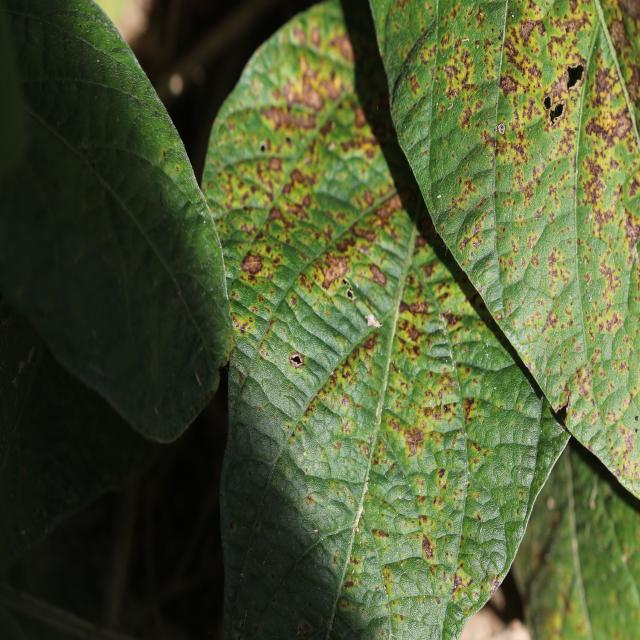Bacterial_Blight: (275, 168, 320, 212), (233, 246, 277, 287), (319, 251, 352, 287), (370, 191, 405, 224), (299, 72, 327, 110), (593, 67, 615, 102), (544, 93, 566, 125), (459, 100, 478, 130), (611, 114, 632, 140), (404, 428, 424, 453), (519, 19, 538, 44), (565, 64, 585, 87), (423, 403, 446, 423), (541, 308, 558, 335), (368, 263, 387, 285), (406, 298, 427, 315), (500, 75, 517, 95), (422, 536, 435, 560), (288, 352, 305, 369), (487, 575, 500, 595), (366, 313, 382, 329), (341, 418, 353, 435), (372, 528, 389, 539), (453, 574, 462, 590), (497, 122, 506, 136), (306, 494, 315, 507), (259, 141, 267, 153), (438, 468, 445, 479), (175, 165, 180, 172), (162, 149, 166, 157)
Soybean: (203, 2, 569, 640), (373, 0, 640, 496), (0, 0, 231, 442)
